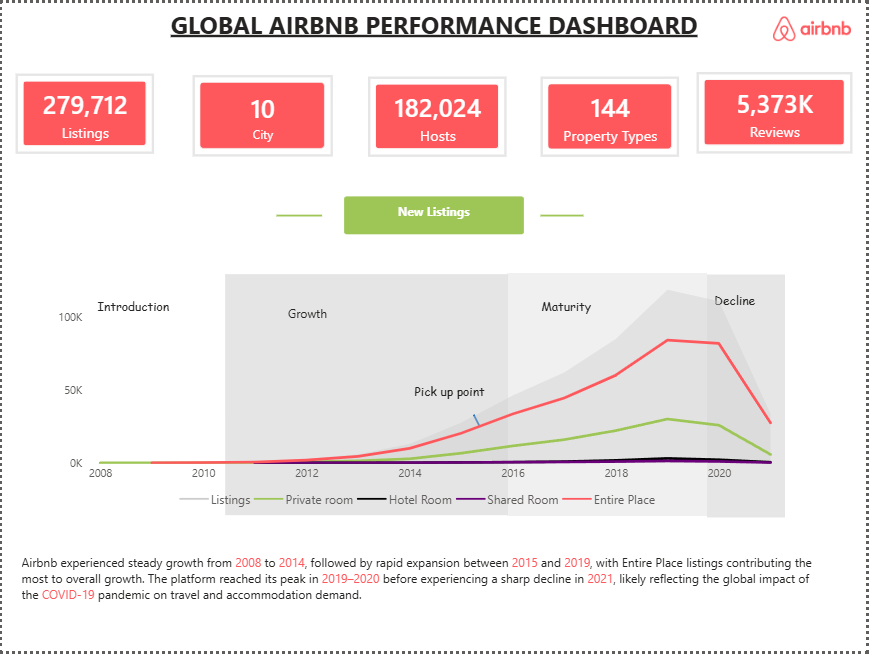

What the dashboard file says about the page in this screenshot:
{"tool":"powerbi","page":{"name":"Overview","canvas":[960,720],"ordinal":0},"visuals":[{"type":"textbox","box":[151.5,0,656.9,109.8],"z":0},{"type":"image","box":[849.4,14.3,100.2,27],"z":1000},{"type":"cardVisual","fields":{"Data":["CountNonNull(Listings.listing_id)"]},"box":[14.8,77.9,154.3,89.1],"z":2000},{"type":"cardVisual","fields":{"Data":["Count(Listings.city)"]},"box":[212.1,80.1,155.9,90.7],"z":3000},{"type":"cardVisual","fields":{"Data":["Count(Listings.host_id)"]},"box":[406,81.7,154.3,89.1],"z":4000},{"type":"cardVisual","fields":{"Data":["Count(Listings.property_type)"]},"box":[598.2,81.7,154.3,89.1],"z":5000},{"type":"cardVisual","fields":{"Data":["Count(Reviews.review_id)"]},"box":[771.4,76.3,173.4,90.7],"z":6000},{"type":"textbox","box":[380,214.7,200,42],"z":7000},{"type":"shape","box":[305.4,85.9,50.9,299],"z":8000},{"type":"shape","box":[598.1,85.9,47.7,299],"z":9000},{"type":"textbox","box":[114.5,281.5,135.2,36.6],"z":10000},{"type":"shape","box":[45.6,302.2,202,267.2],"z":11000},{"type":"textbox","box":[59.9,321.3,171.8,47.7],"z":12000},{"type":"shape","box":[247.6,302.2,313.4,267.2],"z":13000},{"type":"textbox","box":[252.4,329.3,171.8,68.4],"z":14000},{"type":"shape","box":[561.7,300,221.7,270],"z":15000},{"type":"textbox","box":[561,321.3,130.4,47.7],"z":16000},{"type":"shape","box":[783.3,301.7,86.7,270],"z":17000},{"type":"textbox","box":[728.3,315,171.7,48.3],"z":18000},{"type":"textbox","box":[16.7,606.7,891.7,113.3],"z":19000},{"type":"shape","box":[506.7,456.7,41.7,15],"z":20000},{"type":"textbox","box":[450,416.7,98.3,55],"z":21000},{"type":"lineChart","fields":{"Category":["Reviews.date.Variation.Date Hierarchy.Year"],"Y":["CountNonNull(Listings.listing_id)","Listings.Private room","Listings.Hotel Room","Listings.Shared Room","Listings.Entire Place"]},"box":[56.7,301.7,815,268.3],"z":22000}]}

Visuals, with their boxes in screenshot pixels (x1, y1, x2, y2), scaled from the page's 960x720 canvas onto the 871x654 screenshot:
textbox: l=137, t=0, r=733, b=100
image: l=771, t=13, r=862, b=38
cardVisual - CountNonNull(Listings.listing_id): l=13, t=71, r=153, b=152
cardVisual - Count(Listings.city): l=192, t=73, r=334, b=155
cardVisual - Count(Listings.host_id): l=368, t=74, r=508, b=155
cardVisual - Count(Listings.property_type): l=543, t=74, r=683, b=155
cardVisual - Count(Reviews.review_id): l=700, t=69, r=857, b=152
textbox: l=345, t=195, r=526, b=233
shape: l=277, t=78, r=323, b=350
shape: l=543, t=78, r=586, b=350
textbox: l=104, t=256, r=227, b=289
shape: l=41, t=274, r=225, b=517
textbox: l=54, t=292, r=210, b=335
shape: l=225, t=274, r=509, b=517
textbox: l=229, t=299, r=385, b=361
shape: l=510, t=272, r=711, b=518
textbox: l=509, t=292, r=627, b=335
shape: l=711, t=274, r=789, b=519
textbox: l=661, t=286, r=817, b=330
textbox: l=15, t=551, r=824, b=653
shape: l=460, t=415, r=498, b=428
textbox: l=408, t=379, r=497, b=428
lineChart - Reviews.date.Variation.Date Hierarchy.Year x CountNonNull(Listings.listing_id): l=51, t=274, r=791, b=518
